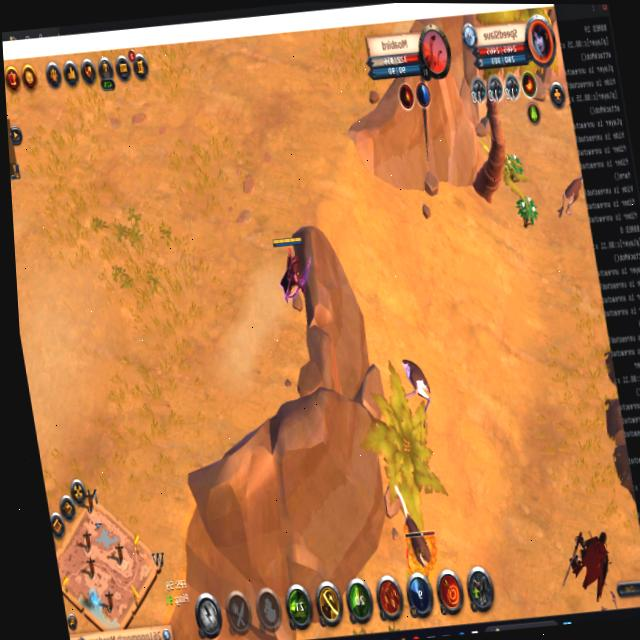hide: (514, 192, 539, 227), (504, 149, 526, 181)
mob: (395, 352, 437, 417)
ore: (380, 472, 442, 572), (558, 525, 621, 606), (551, 172, 588, 220)
red: (270, 230, 316, 309)
